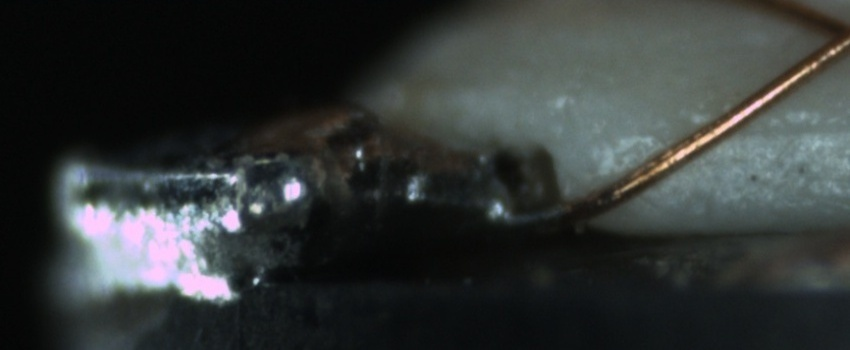CL: (803, 1, 850, 66)
DL: (696, 99, 848, 159)
